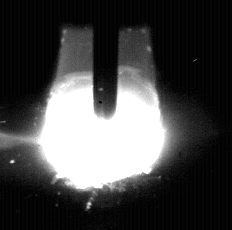arame: (94, 0, 118, 119)
poca: (41, 0, 167, 230)
